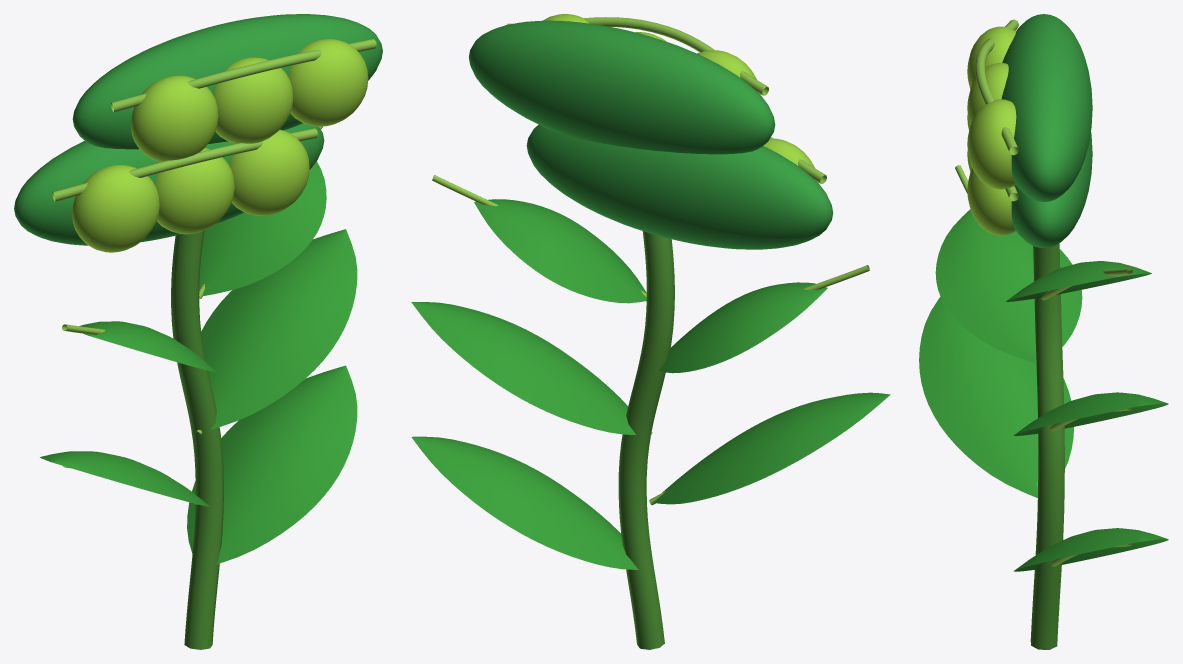
File: pea-v15.glb
The picture shows the model from 3 angles, left to right: view 1: azimuth 30°, elevation 25°; view 2: azimuth 150°, elevation 25°; view 3: azimuth 270°, elevation 25°; orthographic projection.
Visible parts, largest first — view 1: PlantBody_Leaf green, Harvest_Plump peas, Harvest_Pea pod, Living curved stem, Harvest_Leaf vein; view 2: Harvest_Pea pod, PlantBody_Leaf green, Living curved stem, Harvest_Leaf vein, Harvest_Plump peas, PlantBody_Leaf vein; view 3: PlantBody_Leaf green, Harvest_Pea pod, Living curved stem, Harvest_Plump peas, Harvest_Leaf vein, PlantBody_Leaf vein.
Boxes of the visible parts, x1=… form: PlantBody_Leaf green: x1=40, y1=161, x2=357, y2=564; Harvest_Plump peas: x1=72, y1=39, x2=368, y2=252; Harvest_Pea pod: x1=14, y1=14, x2=382, y2=245; Living curved stem: x1=171, y1=230, x2=223, y2=649; Harvest_Leaf vein: x1=52, y1=39, x2=376, y2=201; Harvest_Pea pod: x1=468, y1=20, x2=832, y2=249; PlantBody_Leaf green: x1=411, y1=199, x2=890, y2=569; Living curved stem: x1=618, y1=231, x2=674, y2=649; Harvest_Leaf vein: x1=507, y1=17, x2=826, y2=183; Harvest_Plump peas: x1=543, y1=14, x2=818, y2=183; PlantBody_Leaf vein: x1=432, y1=175, x2=869, y2=505; PlantBody_Leaf green: x1=919, y1=209, x2=1168, y2=571; Harvest_Pea pod: x1=1001, y1=14, x2=1092, y2=248; Living curved stem: x1=1030, y1=243, x2=1064, y2=649; Harvest_Plump peas: x1=967, y1=26, x2=1016, y2=235; Harvest_Leaf vein: x1=975, y1=19, x2=1018, y2=201; PlantBody_Leaf vein: x1=955, y1=165, x2=1132, y2=566.
Bounding box in the file's own units: 1.2 × 1.79 × 0.6677.
